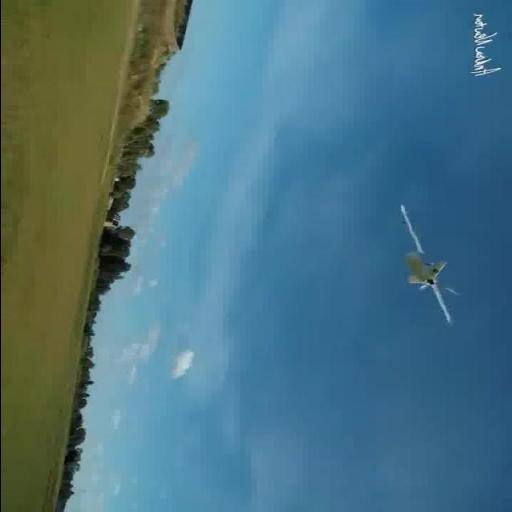uav: (358, 187, 478, 331)
